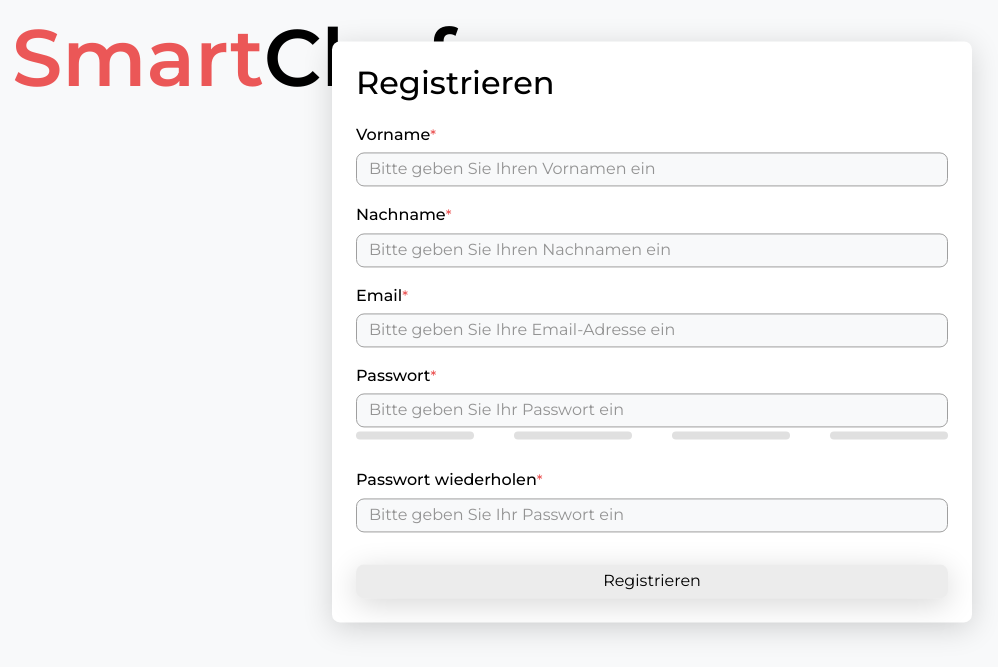
Register page › Should not allow user to register if first name is missing
Focus the field named "firstName": {"x": 652, "y": 170} [356,153,948,187]
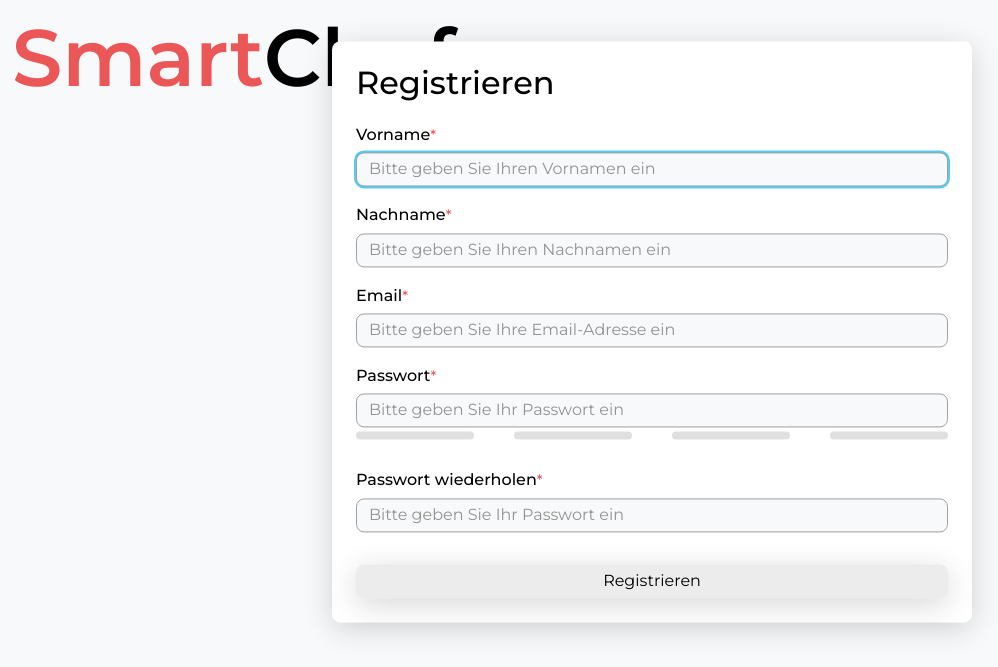
Leave the field named "firstName", box [356,153,948,187]
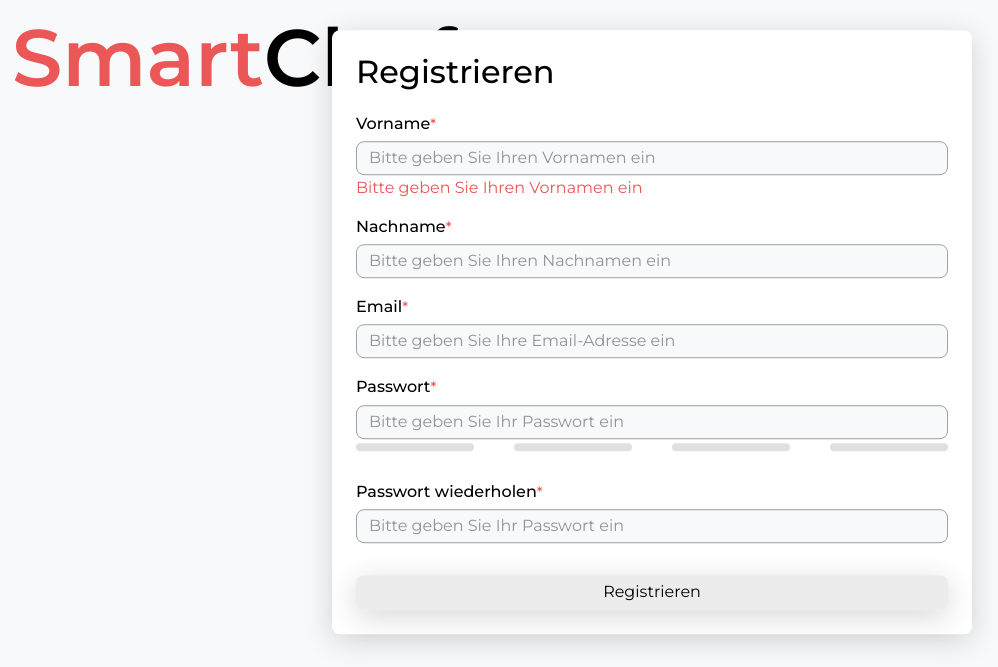
Expected: the submit button is disabled, [356,575,948,609]
Expected: the text "Bitte geben Sie Ihren Vornamen ein" is shown, [356,178,642,197]
